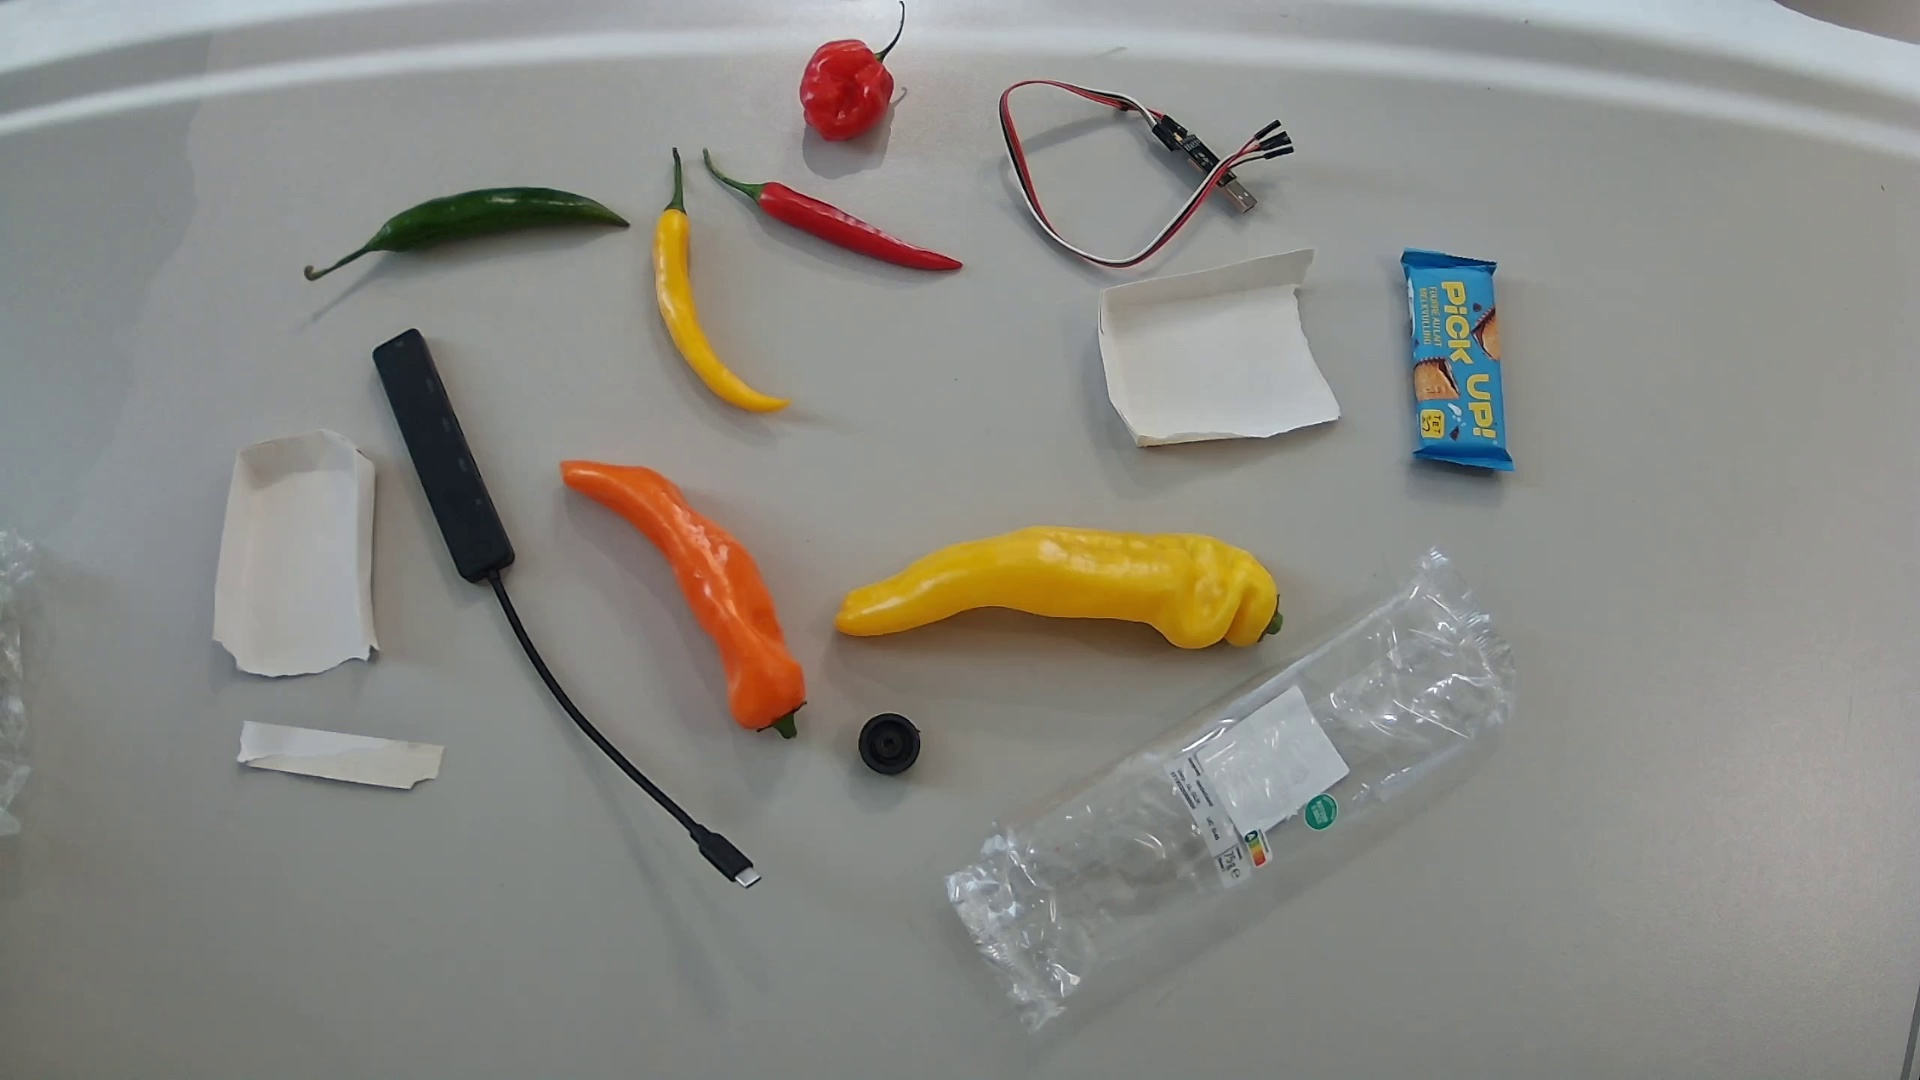Habanero_Pepper_Red: (795, 0, 909, 142)
Spanish_Pepper_Green: (291, 185, 630, 286)
Spanish_Pepper_Red: (700, 144, 967, 278)
Spanish_Pepper_Yellow: (649, 141, 793, 415)
Sweet_Pepper_Orange: (559, 455, 807, 741)
Sweet_Pepper_Yellow: (829, 522, 1286, 651)
